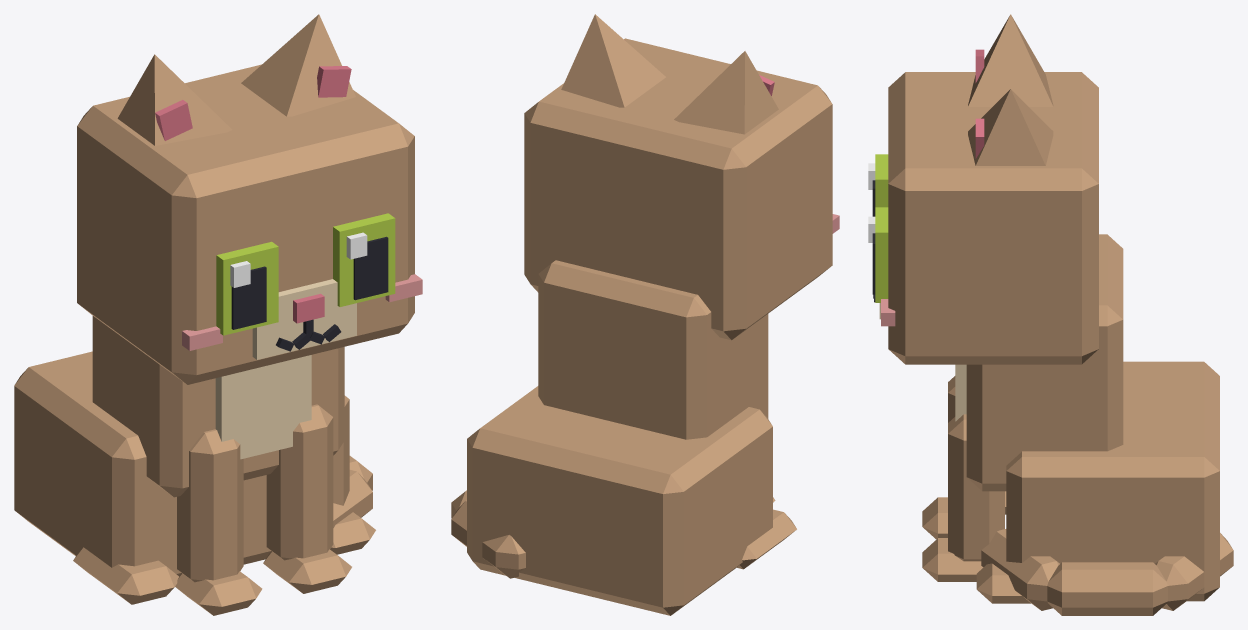
The model's file is CatCafe_Cat_Cream_Sit.glb.
3 renders of one model, left to right at view 1: azimuth 30°, elevation 25°; view 2: azimuth 150°, elevation 25°; view 3: azimuth 270°, elevation 25°, orthographic. The views are drawn at different scales.
Parts seen in each view (by area): view 1: CatCafe_Cat_Cream_Sit_Head, CatCafe_Cat_Cream_Sit_Body, CatCafe_Cat_Cream_Sit_LegF2, CatCafe_Cat_Cream_Sit_LegF1, CatCafe_Cat_Cream_Sit_EarL, CatCafe_Cat_Cream_Sit_EarR, CatCafe_Cat_Cream_Sit_Eye2, CatCafe_Cat_Cream_Sit_Eye1, CatCafe_Cat_Cream_Sit_Tail; view 2: CatCafe_Cat_Cream_Sit_Body, CatCafe_Cat_Cream_Sit_Head, CatCafe_Cat_Cream_Sit_EarL, CatCafe_Cat_Cream_Sit_EarR, CatCafe_Cat_Cream_Sit_Tail; view 3: CatCafe_Cat_Cream_Sit_Head, CatCafe_Cat_Cream_Sit_Body, CatCafe_Cat_Cream_Sit_Tail, CatCafe_Cat_Cream_Sit_LegF1, CatCafe_Cat_Cream_Sit_EarL, CatCafe_Cat_Cream_Sit_EarR, CatCafe_Cat_Cream_Sit_Eye1, CatCafe_Cat_Cream_Sit_LegF2, CatCafe_Cat_Cream_Sit_Eye2.
Part boxes in pixels (bbox=[...]): CatCafe_Cat_Cream_Sit_Head: bbox=[77, 64, 422, 384]; CatCafe_Cat_Cream_Sit_Body: bbox=[14, 316, 375, 604]; CatCafe_Cat_Cream_Sit_LegF2: bbox=[175, 429, 262, 615]; CatCafe_Cat_Cream_Sit_LegF1: bbox=[263, 404, 351, 593]; CatCafe_Cat_Cream_Sit_EarL: bbox=[241, 14, 355, 116]; CatCafe_Cat_Cream_Sit_EarR: bbox=[117, 54, 232, 145]; CatCafe_Cat_Cream_Sit_Eye2: bbox=[216, 241, 278, 335]; CatCafe_Cat_Cream_Sit_Eye1: bbox=[333, 213, 395, 306]; CatCafe_Cat_Cream_Sit_Tail: bbox=[333, 456, 372, 527]; CatCafe_Cat_Cream_Sit_Body: bbox=[467, 260, 796, 615]; CatCafe_Cat_Cream_Sit_Head: bbox=[524, 38, 839, 340]; CatCafe_Cat_Cream_Sit_EarL: bbox=[561, 14, 665, 107]; CatCafe_Cat_Cream_Sit_EarR: bbox=[674, 51, 778, 134]; CatCafe_Cat_Cream_Sit_Tail: bbox=[451, 490, 525, 578]; CatCafe_Cat_Cream_Sit_Head: bbox=[873, 72, 1098, 364]; CatCafe_Cat_Cream_Sit_Body: bbox=[955, 234, 1219, 603]; CatCafe_Cat_Cream_Sit_Tail: bbox=[981, 529, 1233, 615]; CatCafe_Cat_Cream_Sit_LegF1: bbox=[922, 414, 1004, 581]; CatCafe_Cat_Cream_Sit_EarL: bbox=[968, 89, 1053, 165]; CatCafe_Cat_Cream_Sit_EarR: bbox=[968, 14, 1053, 106]; CatCafe_Cat_Cream_Sit_Eye1: bbox=[868, 207, 888, 302]; CatCafe_Cat_Cream_Sit_LegF2: bbox=[922, 376, 955, 539]; CatCafe_Cat_Cream_Sit_Eye2: bbox=[868, 154, 888, 216].
Size of the model in its own units: 1.05 by 1.85 by 1.22.
Materials: 1 (1 with a texture image).
